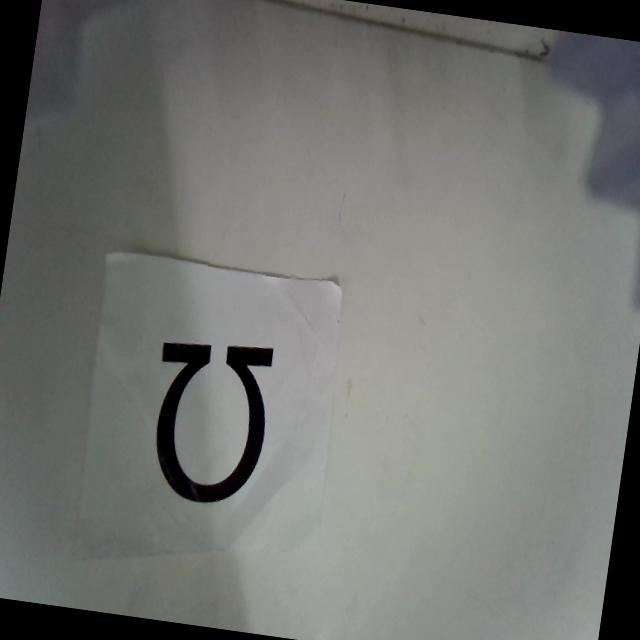OM: (140, 330, 280, 508)
